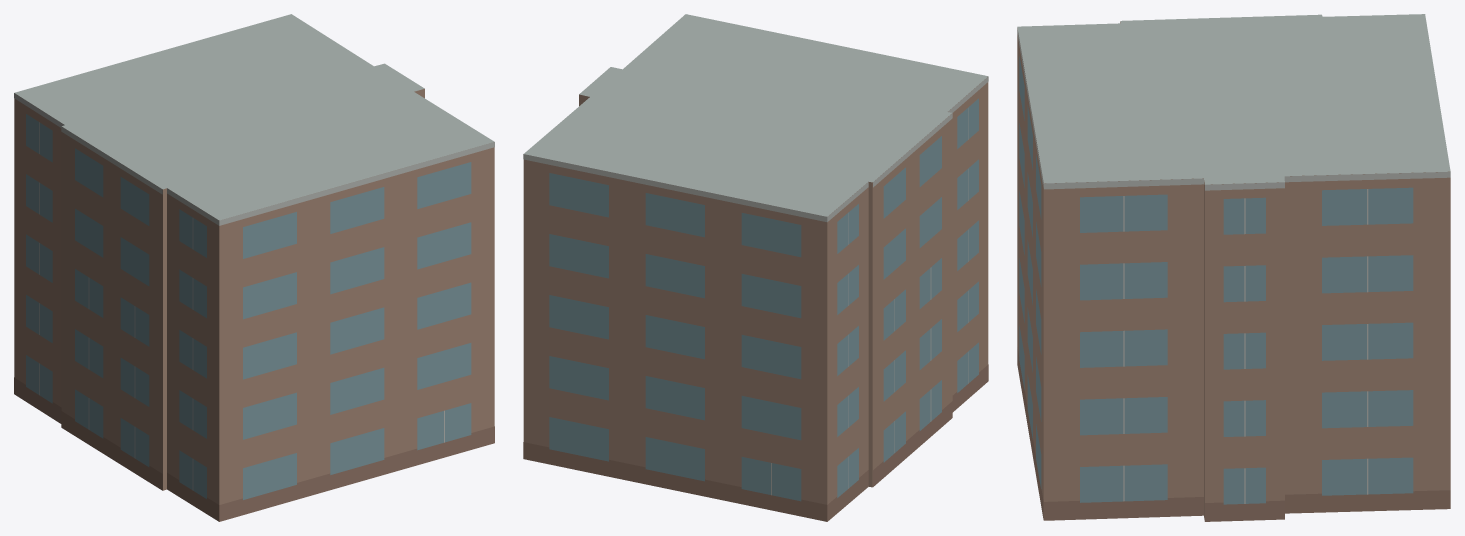
The model's file is survey-upis-32705055.glb.
3 views of the same model, side by side, from view 1: azimuth 30°, elevation 25°; view 2: azimuth 150°, elevation 25°; view 3: azimuth 270°, elevation 25° (orthographic). The views are drawn at different scales.
Parts seen in each view (by area): view 1: survey-upis-32705055.tmp; view 2: survey-upis-32705055.tmp; view 3: survey-upis-32705055.tmp.
Part boxes in pixels (x1,y1,x2,y2): survey-upis-32705055.tmp: (14, 14, 494, 521); survey-upis-32705055.tmp: (523, 14, 988, 521); survey-upis-32705055.tmp: (1017, 14, 1450, 521).
Bounding box in the file's own units: 14.87 × 13.7 × 15.96.
